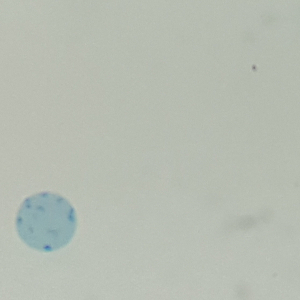aggregate reticulocyte: (14, 188, 78, 253)
